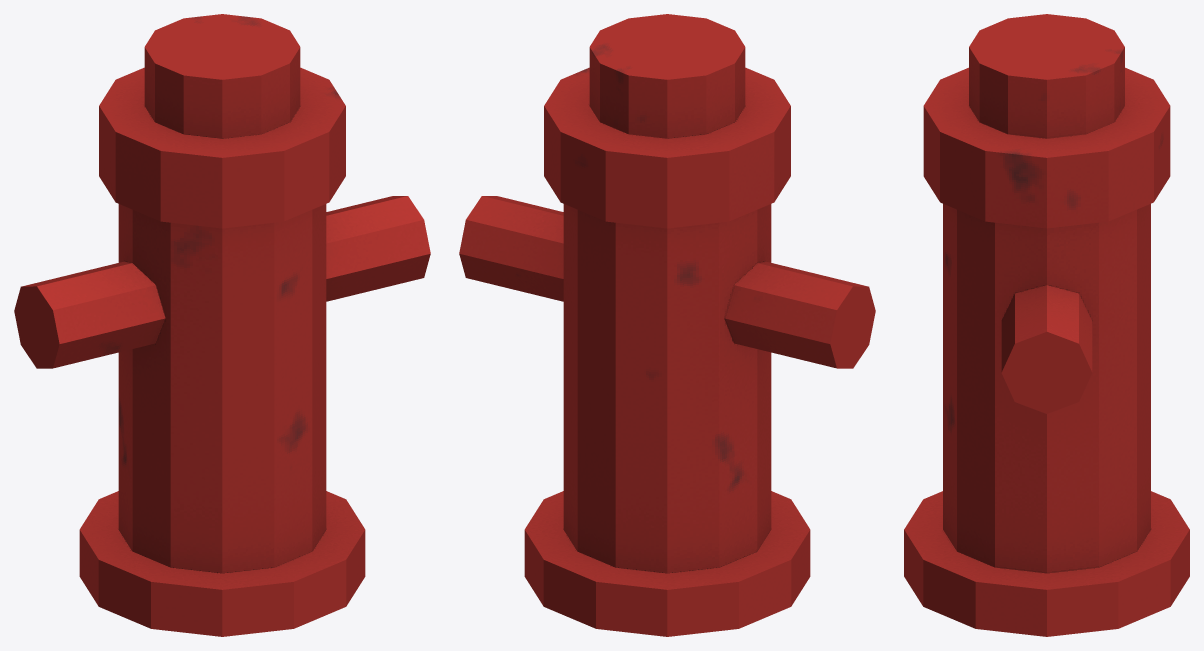
The model's file is city_hydrant.glb.
3 views of the same model, side by side, from view 1: azimuth 30°, elevation 25°; view 2: azimuth 150°, elevation 25°; view 3: azimuth 270°, elevation 25° (orthographic).
Parts seen in each view (by area): view 1: city_hydrant; view 2: city_hydrant; view 3: city_hydrant.
Part boxes in pixels (x1,y1,x2,y2): city_hydrant: [14, 14, 430, 636]; city_hydrant: [459, 14, 875, 636]; city_hydrant: [904, 14, 1189, 636].
Size of the model in its own units: 0.66 by 0.9 by 0.44.
Materials: 1 (1 with a texture image).
